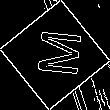M_W: (28, 30, 82, 80)
